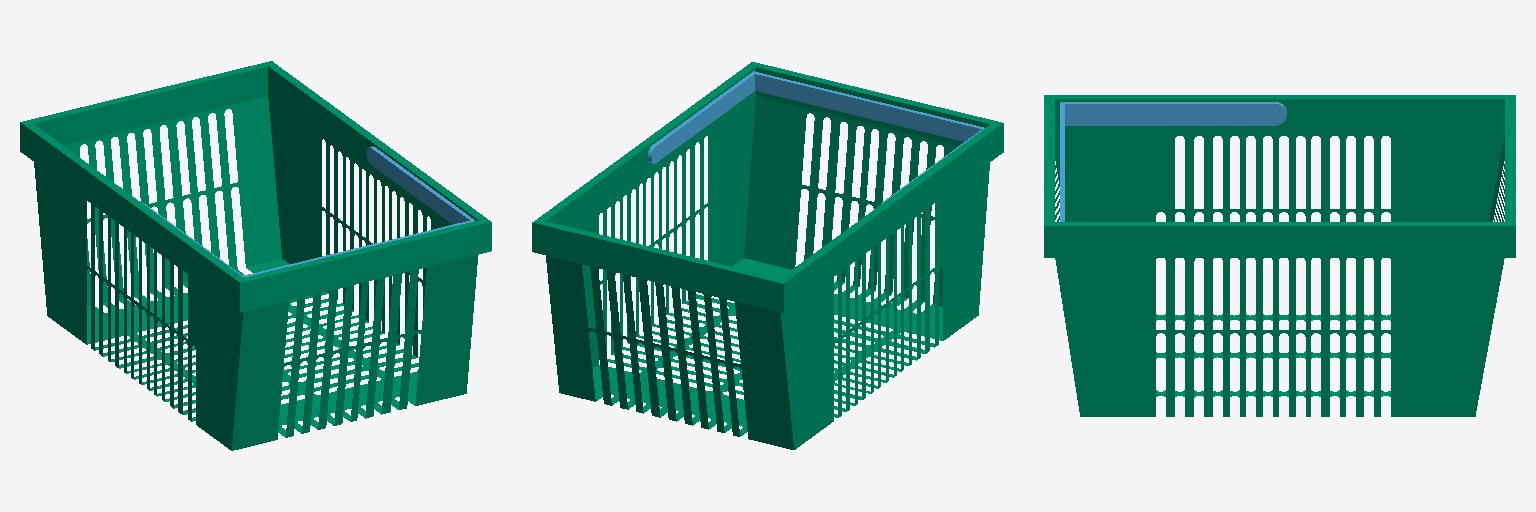
URDF robot description (partnet_9c74e43a-01d6-402b-a6c9-7dc2c5beb10e):
<?xml version="1.0" ?>
<robot name="partnet_9c74e43a-01d6-402b-a6c9-7dc2c5beb10e">
	<link name="base"/>
	<link name="link_0">
		<visual name="handle-1">
			<origin xyz="0.02209335104562346 -0.3504974806266648 0"/>
			<geometry>
				<mesh filename="textured_objs/original-1.obj"/>
			</geometry>
		</visual>
		<collision>
			<origin xyz="0.02209335104562346 -0.3504974806266648 0"/>
			<geometry>
				<mesh filename="textured_objs/original-1.obj"/>
			</geometry>
		</collision>
	</link>
	<joint name="joint_0" type="revolute">
		<origin xyz="-0.02209335104562346 0.3504974806266648 0"/>
		<axis xyz="0 0 1"/>
		<child link="link_0"/>
		<parent link="link_1"/>
		<limit lower="0.0" upper="3.141592653589793"/>
	</joint>
	<link name="link_1">
		<visual name="base_body-2">
			<origin xyz="0 0 0"/>
			<geometry>
				<mesh filename="textured_objs/original-4.obj"/>
			</geometry>
		</visual>
		<visual name="base_body-2">
			<origin xyz="0 0 0"/>
			<geometry>
				<mesh filename="textured_objs/original-3.obj"/>
			</geometry>
		</visual>
		<visual name="base_body-2">
			<origin xyz="0 0 0"/>
			<geometry>
				<mesh filename="textured_objs/original-5.obj"/>
			</geometry>
		</visual>
		<collision>
			<origin xyz="0 0 0"/>
			<geometry>
				<mesh filename="textured_objs/original-4.obj"/>
			</geometry>
		</collision>
		<collision>
			<origin xyz="0 0 0"/>
			<geometry>
				<mesh filename="textured_objs/original-3.obj"/>
			</geometry>
		</collision>
		<collision>
			<origin xyz="0 0 0"/>
			<geometry>
				<mesh filename="textured_objs/original-5.obj"/>
			</geometry>
		</collision>
	</link>
	<joint name="joint_1" type="fixed">
		<origin rpy="1.570796326794897 0 -1.570796326794897" xyz="0 0 0"/>
		<child link="link_1"/>
		<parent link="base"/>
	</joint>
</robot>

--- Render facts (derived) ---
Views: 3 orthographic renders of the robot side by side, from view 1: azimuth 30°, elevation 25°; view 2: azimuth 150°, elevation 25°; view 3: azimuth 270°, elevation 25°.
Model partnet_9c74e43a-01d6-402b-a6c9-7dc2c5beb10e with 3 links and 2 joints (1 revolute, 1 fixed), rooted at base, posed every joint at zero.
Links seen in each view (by area): view 1: link_1, link_0; view 2: link_1, link_0; view 3: link_1, link_0.
Boxes of the visible links, box(x1,y1,x2,y2) form: link_1: box(20, 61, 491, 450); link_0: box(142, 146, 474, 276); link_1: box(532, 62, 1003, 449); link_0: box(647, 71, 984, 203); link_1: box(1044, 95, 1515, 416); link_0: box(1060, 102, 1286, 221).
Bounding box of the posed robot: 1.03 × 1.56 × 0.7153 m (x, y, z).
Meshes: 4 distinct files referenced, 4 mesh visuals loaded (4 OBJ).